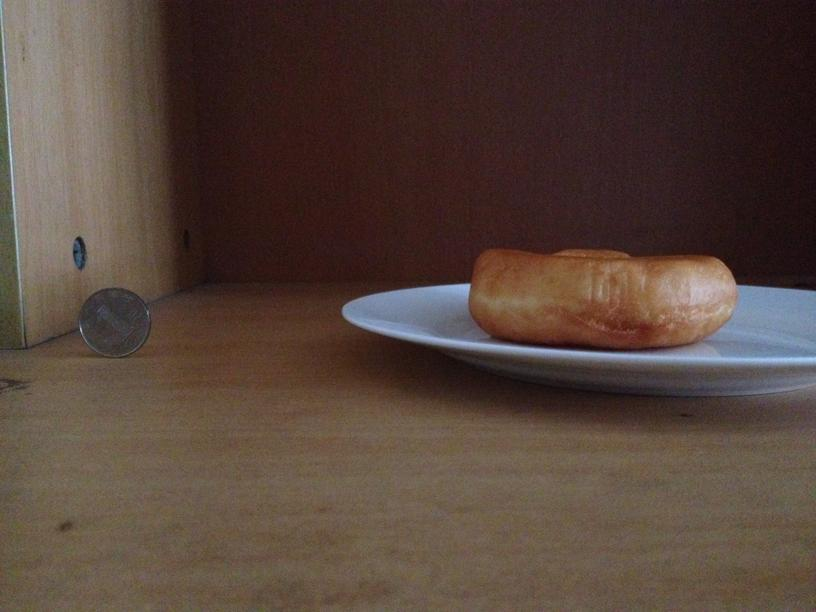coin: (74, 286, 150, 359)
doughnut: (463, 243, 736, 351)
